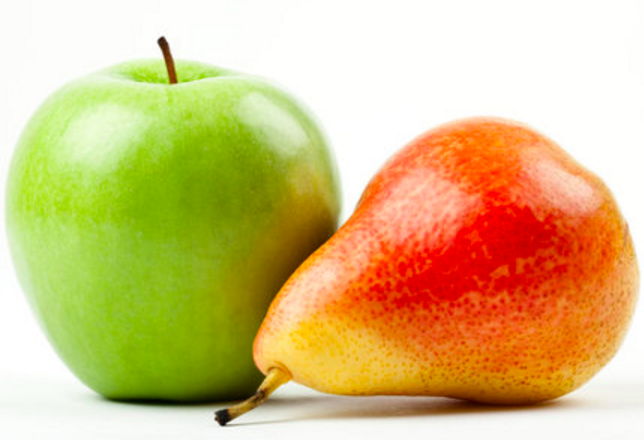elma: (3, 47, 343, 410)
